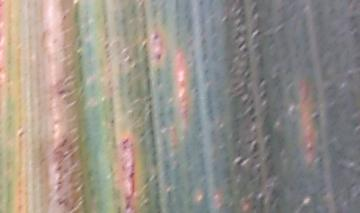tarspot: (310, 109, 322, 120), (17, 128, 27, 138), (307, 143, 315, 153), (121, 138, 131, 145), (57, 88, 66, 95), (154, 53, 161, 61), (152, 33, 159, 41), (317, 156, 324, 163), (61, 12, 67, 20)
